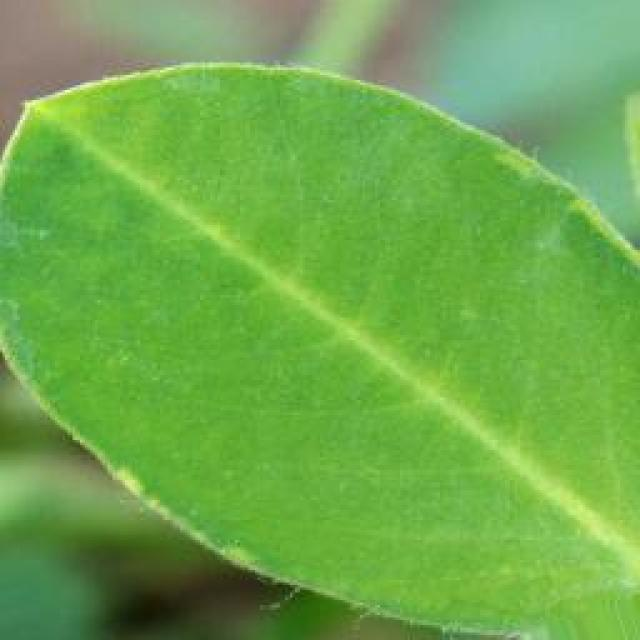Yellow_and_black_sigatoka: (0, 55, 640, 630)
